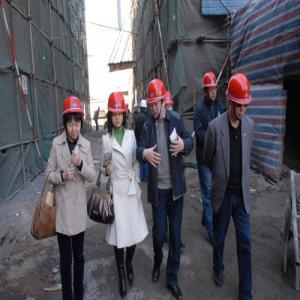red: (228, 74, 252, 121), (63, 98, 84, 138), (147, 79, 166, 119), (107, 91, 125, 129), (204, 72, 220, 103), (165, 91, 173, 113), (125, 105, 130, 118)
white: (140, 100, 148, 114), (134, 104, 139, 113)
